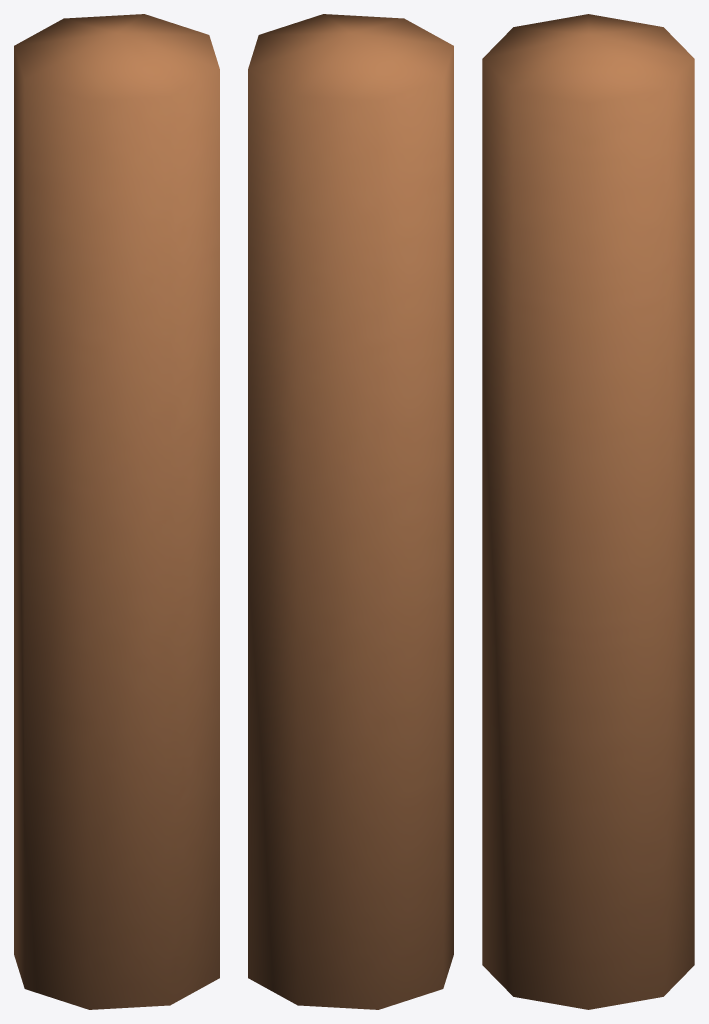
File: paloPuerto.fbx
The picture shows the model from 3 angles, left to right: view 1: azimuth 30°, elevation 25°; view 2: azimuth 150°, elevation 25°; view 3: azimuth 270°, elevation 25°; orthographic projection.
Parts seen in each view (by area): view 1: paloPuerto; view 2: paloPuerto; view 3: paloPuerto.
Boxes of the visible parts, <box> form: paloPuerto: <box>14,14,219,1009</box>; paloPuerto: <box>248,14,453,1009</box>; paloPuerto: <box>482,14,694,1009</box>.
Bounding box in the file's own units: 17.65 × 85.25 × 17.65.
Materials: 1 (1 with a texture image).
